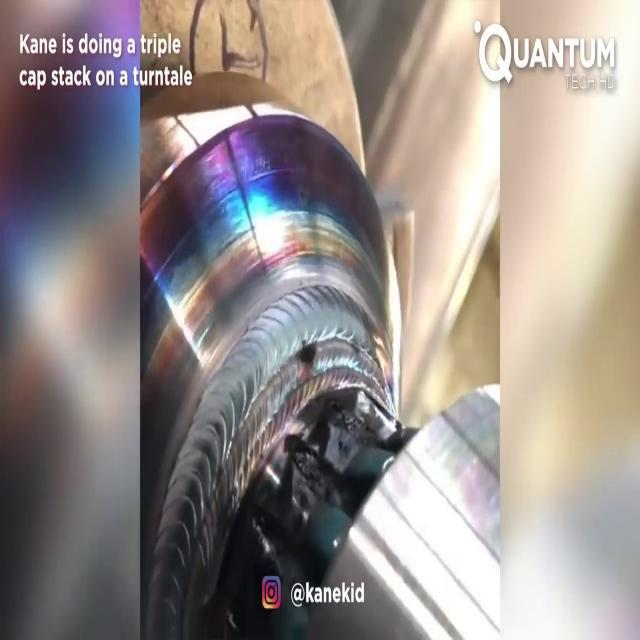Good Welding: (185, 349, 288, 482), (307, 288, 407, 404)
